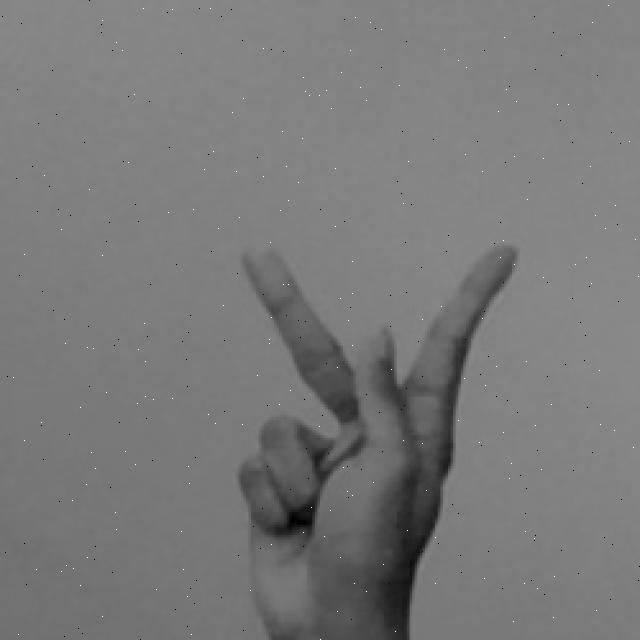K: (225, 237, 525, 640)
